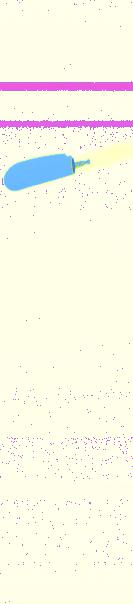Knife: (1, 139, 133, 194)
